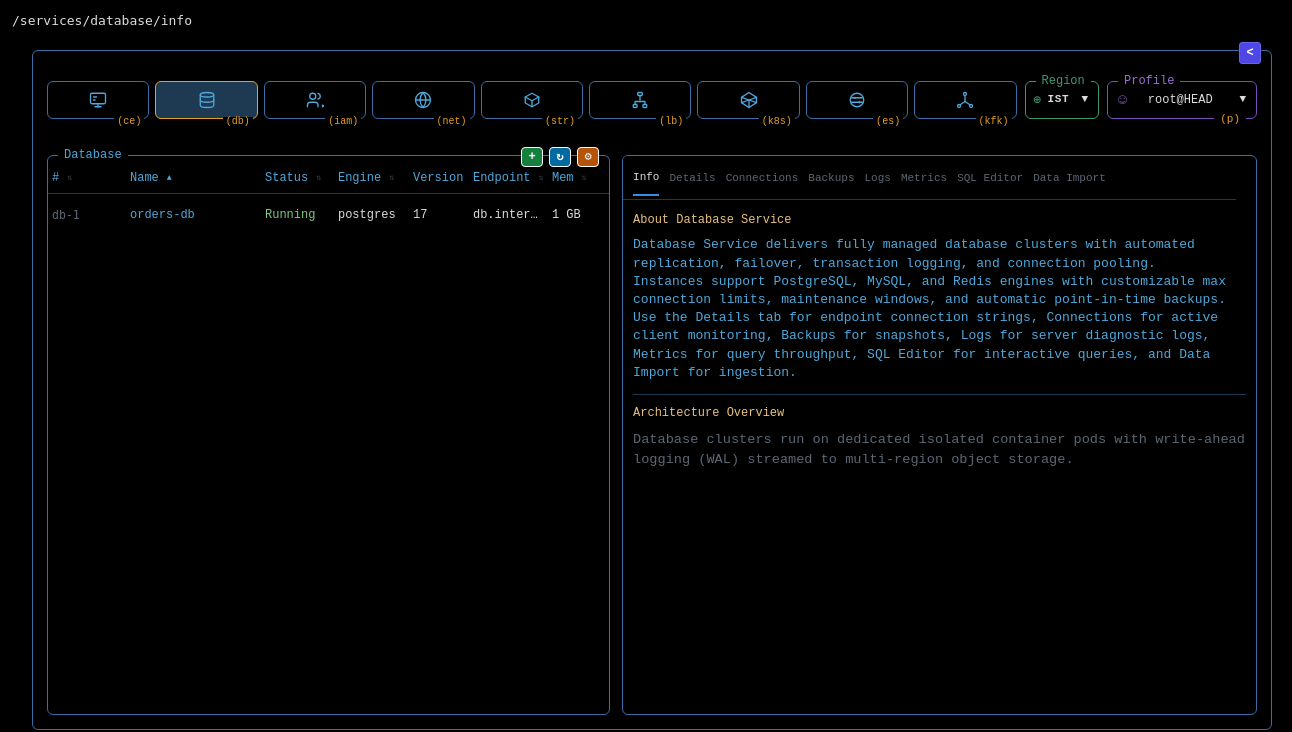
Scenario: DashboardPage instance-scoped routes › navigates a service-level row selection to that resource details URL
Click the row that starts with "db-1". click: {"x": 490, "y": 215}
box: [48,194,932,236]
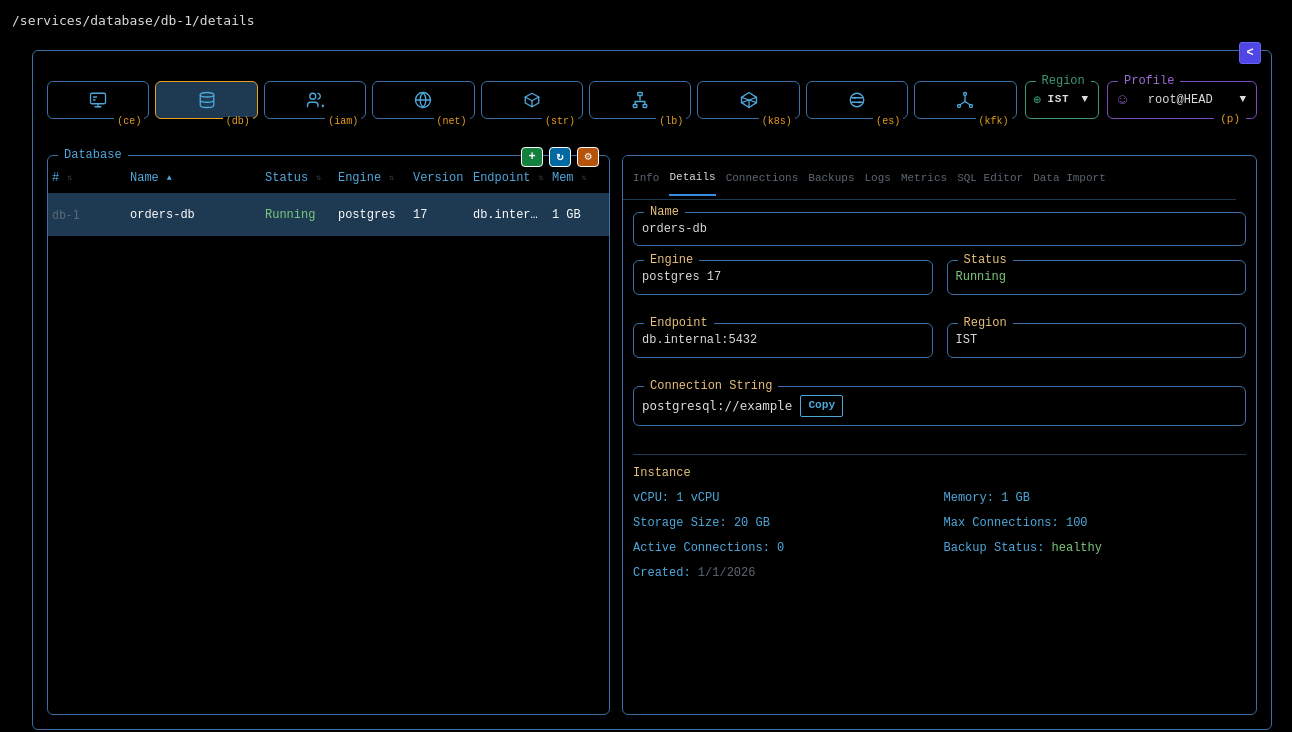
Result: the text with test id "location" reads "/services/database/db-1/details" at [12,13,255,28]
